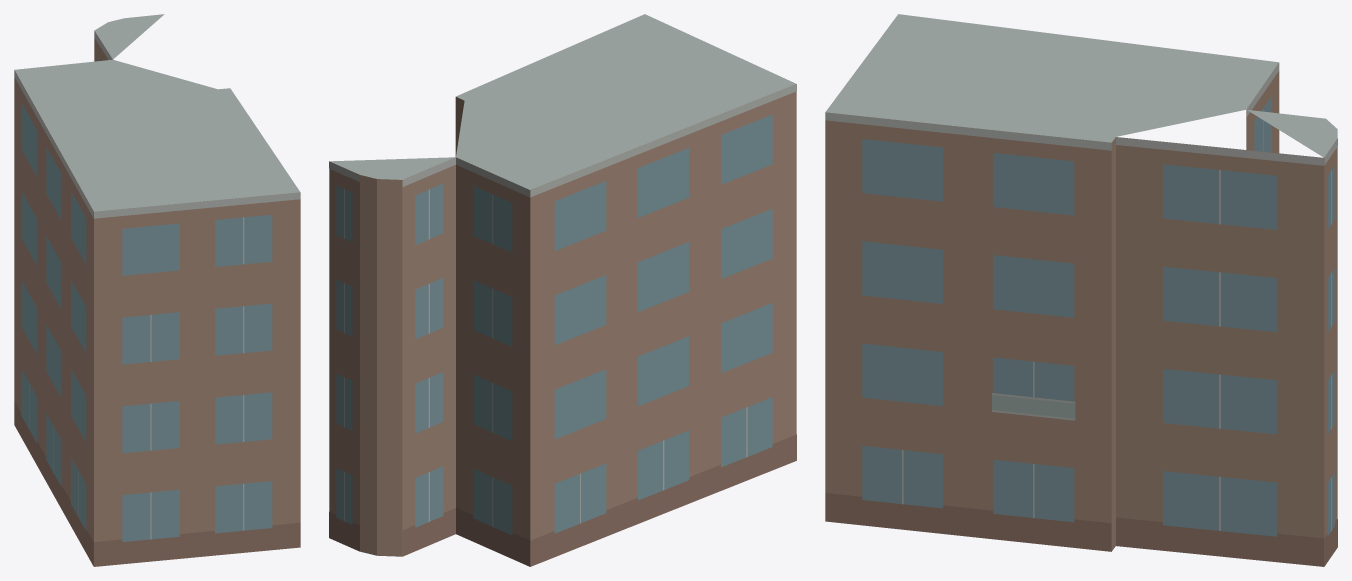
The model's file is survey-upis-32725291.glb.
3 renders of one model, left to right at view 1: azimuth 30°, elevation 25°; view 2: azimuth 150°, elevation 25°; view 3: azimuth 270°, elevation 25°, orthographic. The views are drawn at different scales.
Visible parts, largest first — view 1: survey-upis-32725291.tmp; view 2: survey-upis-32725291.tmp; view 3: survey-upis-32725291.tmp.
Part boxes in pixels (x1,y1,x2,y2): survey-upis-32725291.tmp: [14, 14, 300, 566]; survey-upis-32725291.tmp: [329, 14, 796, 566]; survey-upis-32725291.tmp: [825, 14, 1337, 566].
Size of the model in its own units: 9.43 by 12.5 by 14.2.
